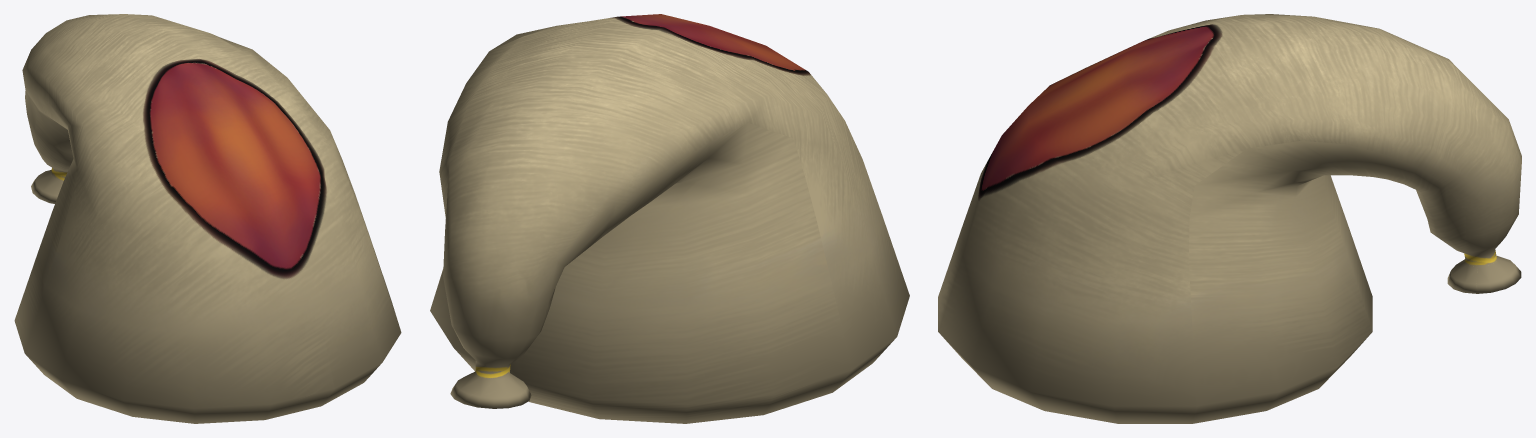
Rendered from Model_TexturaSacoMurchoCacau_v1.fbx.
The picture shows the model from 3 angles, left to right: view 1: azimuth 30°, elevation 25°; view 2: azimuth 150°, elevation 25°; view 3: azimuth 270°, elevation 25°; orthographic projection. The views are drawn at different scales.
Parts seen in each view (by area): view 1: Circle.004; view 2: Circle.004; view 3: Circle.004.
Part boxes in pixels (box(x1,y1,x2,y2)): Circle.004: box(14, 14, 401, 423); Circle.004: box(430, 14, 909, 423); Circle.004: box(938, 14, 1521, 423).
Bounding box in the file's own units: 227 × 179 × 305.
